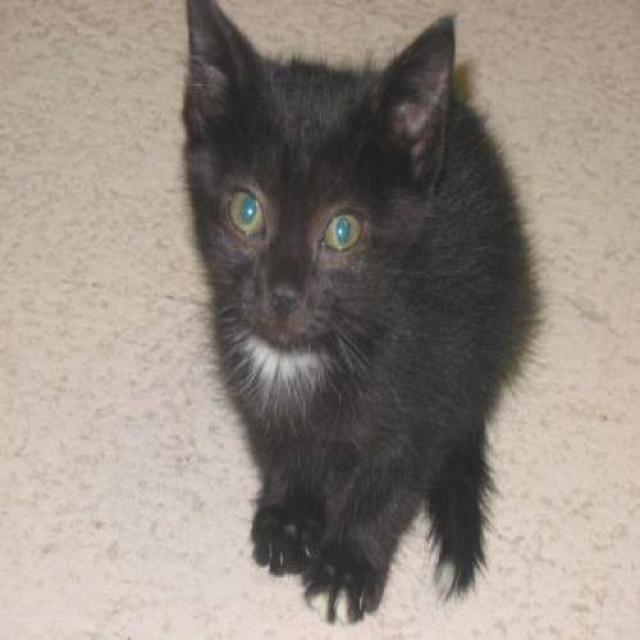cat: (178, 0, 546, 625)
